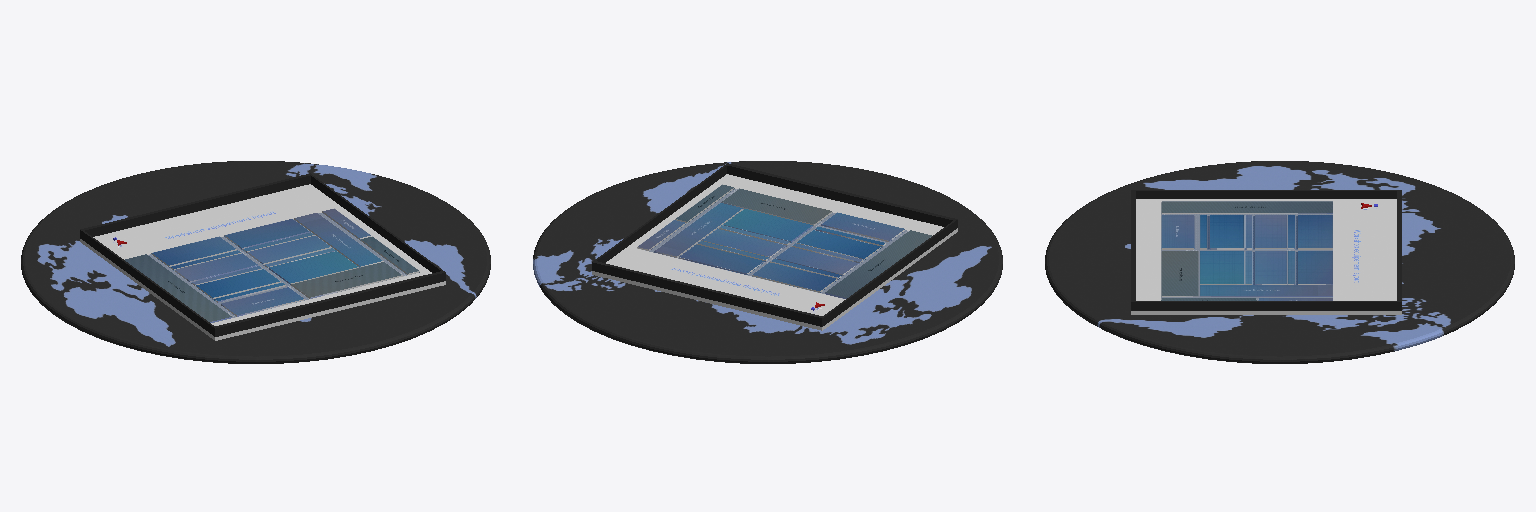
3 views of the same model, side by side, from view 1: azimuth 30°, elevation 25°; view 2: azimuth 150°, elevation 25°; view 3: azimuth 270°, elevation 25° (orthographic).
Visible parts, largest first — view 1: ChamferCyl001, Box002, map, bar1, bar; view 2: ChamferCyl001, Box002, map, bar1, bar; view 3: ChamferCyl001, Box002, map, bar1, bar.
Part boxes in pixels (left/top/right/bottom): ChamferCyl001: left=21, top=161, right=490, bottom=363; Box002: left=125, top=208, right=419, bottom=322; map: left=93, top=184, right=431, bottom=325; bar1: left=80, top=173, right=445, bottom=336; bar: left=80, top=239, right=445, bottom=340; ChamferCyl001: left=533, top=161, right=1002, bottom=363; Box002: left=637, top=184, right=931, bottom=298; map: left=606, top=174, right=943, bottom=315; bar1: left=592, top=163, right=957, bottom=326; bar: left=592, top=228, right=957, bottom=330; ChamferCyl001: left=1045, top=161, right=1514, bottom=363; Box002: left=1162, top=201, right=1332, bottom=300; map: left=1136, top=199, right=1396, bottom=300; bar1: left=1131, top=190, right=1401, bottom=310; bar: left=1131, top=311, right=1401, bottom=314.
Size of the model in its own units: 3746 by 178 by 3746.
5 materials, 2 textured.